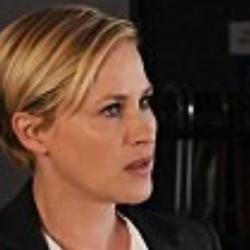face: (1, 5, 175, 214)
